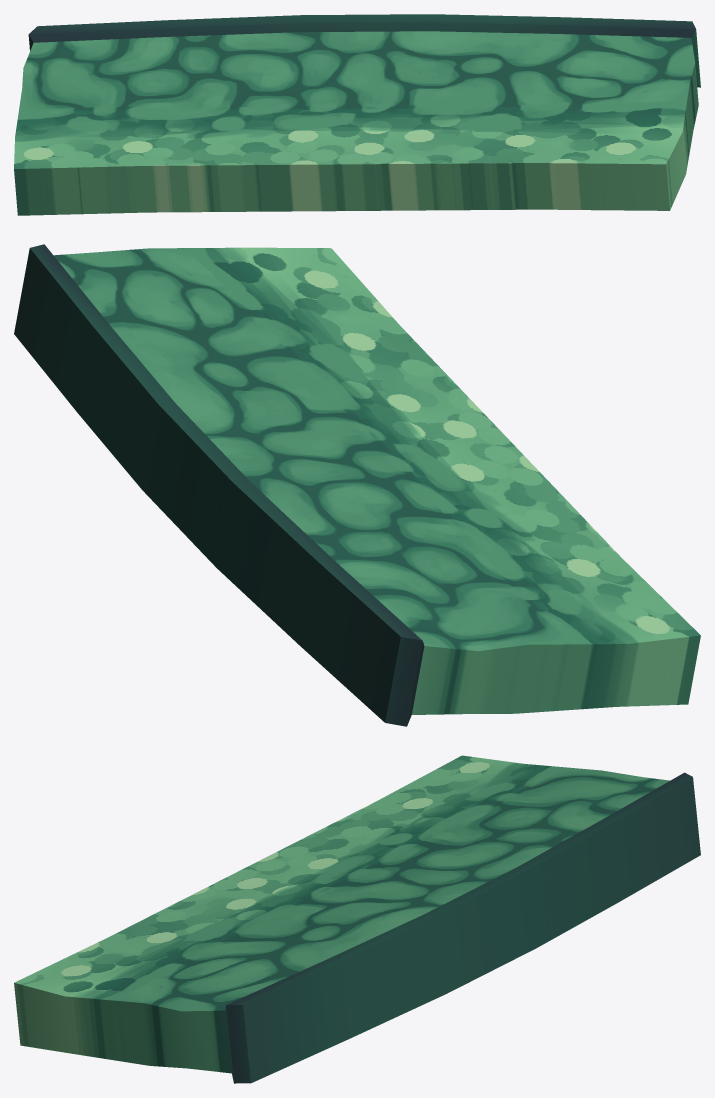
The model's file is Initial_Item_Alien meat_Ver1.fbx.
3 views of the same model, one above another, from view 1: azimuth 30°, elevation 25°; view 2: azimuth 150°, elevation 25°; view 3: azimuth 270°, elevation 25° (orthographic). The views are drawn at different scales.
Visible parts, largest first — view 1: Cube; view 2: Cube; view 3: Cube.
Part boxes in pixels (x1,y1,x2,y2): Cube: (14,14,700,215); Cube: (14,244,700,726); Cube: (14,755,700,1083).
Size of the model in its own units: 941 by 187 by 803.
Materials: 1 (1 with a texture image).
